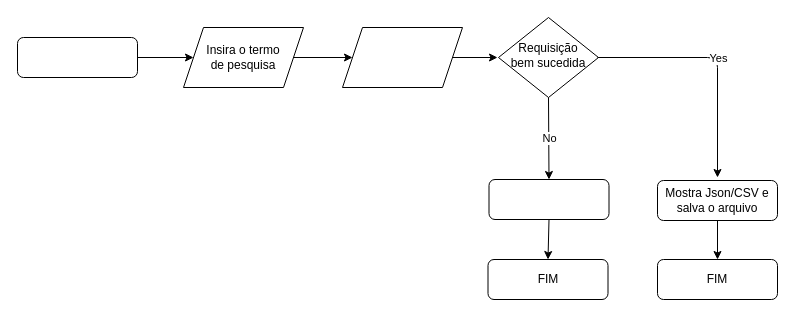
This 795x317 diagram has some shape labels left out. The centre of each missing label's shape, as x and y in pixels:
"CSV ou JSON" goes at [402,57].
"Código de erro" goes at [548,199].
"Inicio" goes at [77,57].
